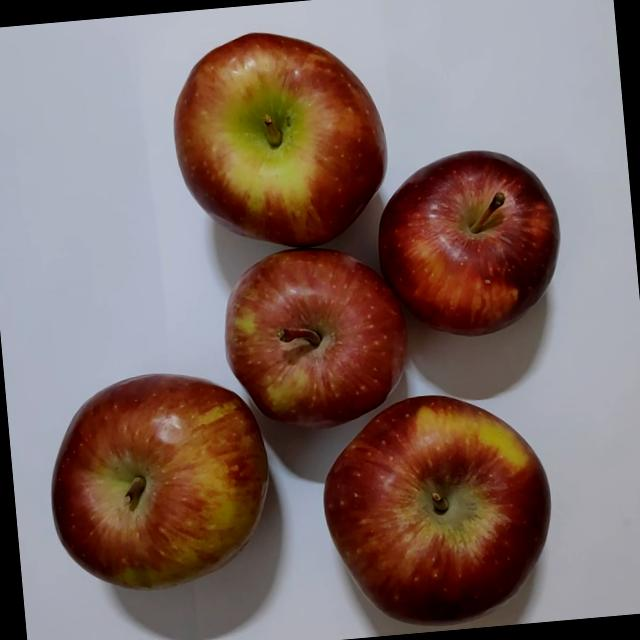apple: (307, 376, 559, 638), (37, 356, 285, 603), (162, 33, 397, 274), (366, 148, 564, 352), (215, 244, 412, 440)
